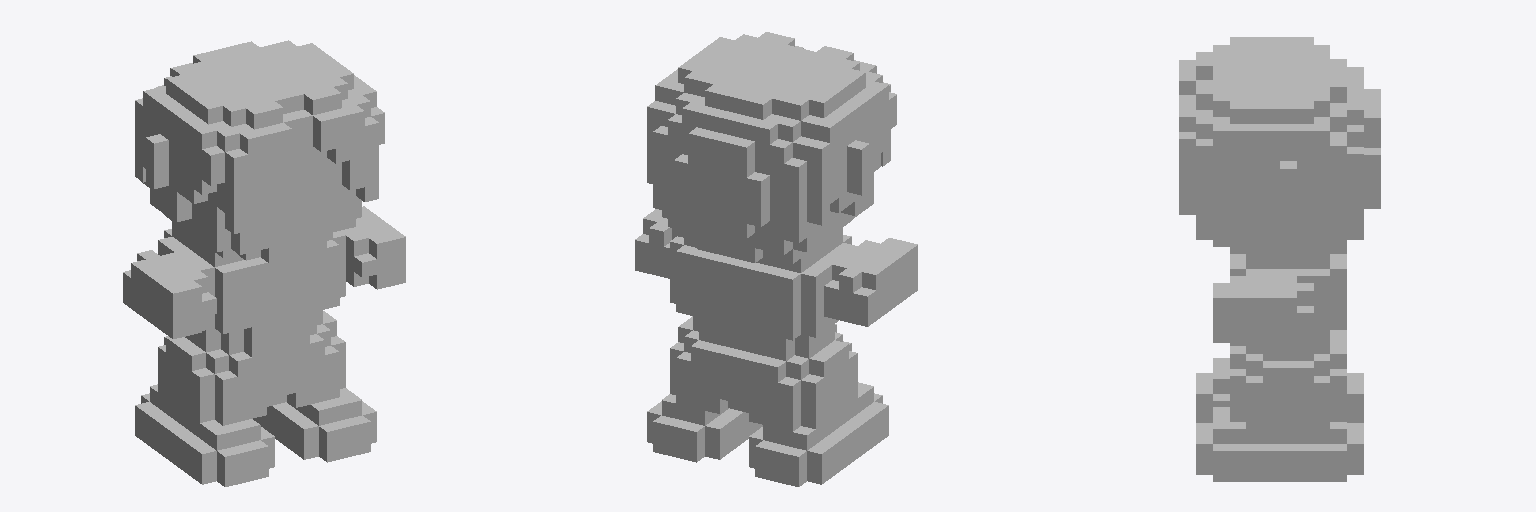
The model's file is human.obj.
3 renders of one model, left to right at view 1: azimuth 30°, elevation 25°; view 2: azimuth 150°, elevation 25°; view 3: azimuth 270°, elevation 25°, orthographic.
Parts seen in each view (by area): view 1: object 1; view 2: object 1; view 3: object 1.
Boxes of the visible parts, x1,y1,x2,y2 form: object 1: [123, 40, 405, 486]; object 1: [635, 32, 917, 486]; object 1: [1179, 37, 1380, 481].
Size of the model in its own units: 1.6 by 2.4 by 1.2.